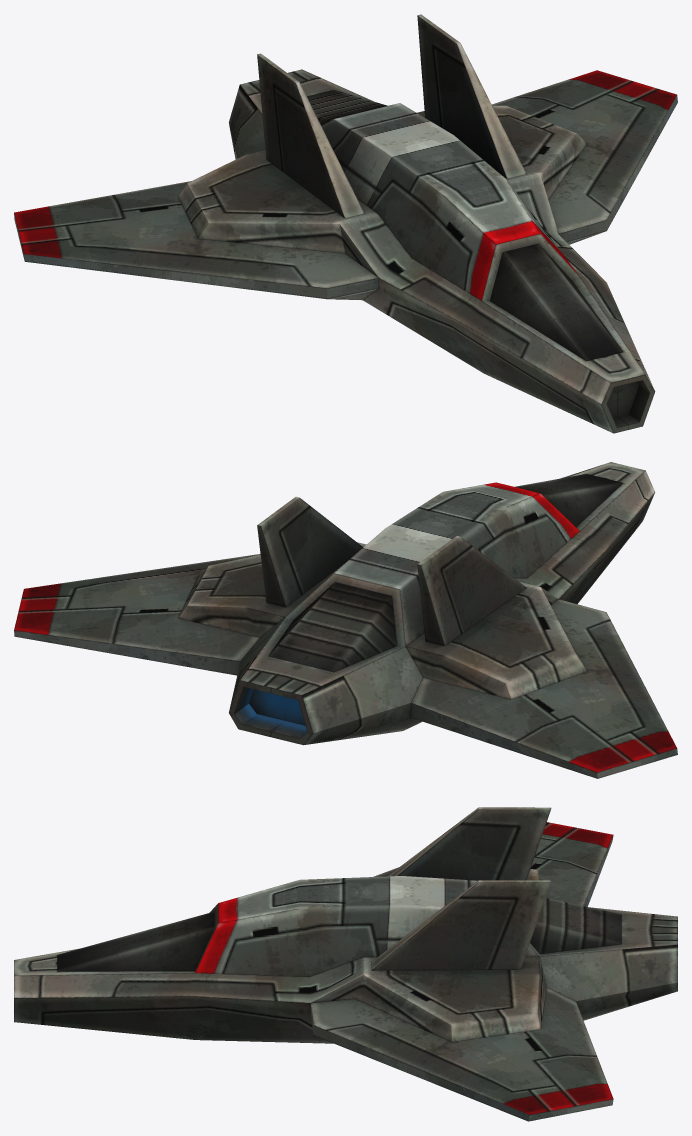
The model's file is Ship.glb.
The picture shows the model from 3 angles, top to bottom: view 1: azimuth 30°, elevation 25°; view 2: azimuth 150°, elevation 25°; view 3: azimuth 270°, elevation 25°; orthographic projection. The views are drawn at different scales.
Visible parts, largest first — view 1: SpaceCraft; view 2: SpaceCraft; view 3: SpaceCraft.
Boxes of the visible parts, <box> form: SpaceCraft: <box>14,14,677,433</box>; SpaceCraft: <box>14,462,677,778</box>; SpaceCraft: <box>14,807,677,1121</box>.
Size of the model in its own units: 28.02 by 7.68 by 26.55.
Materials: 1 (1 with a texture image).
